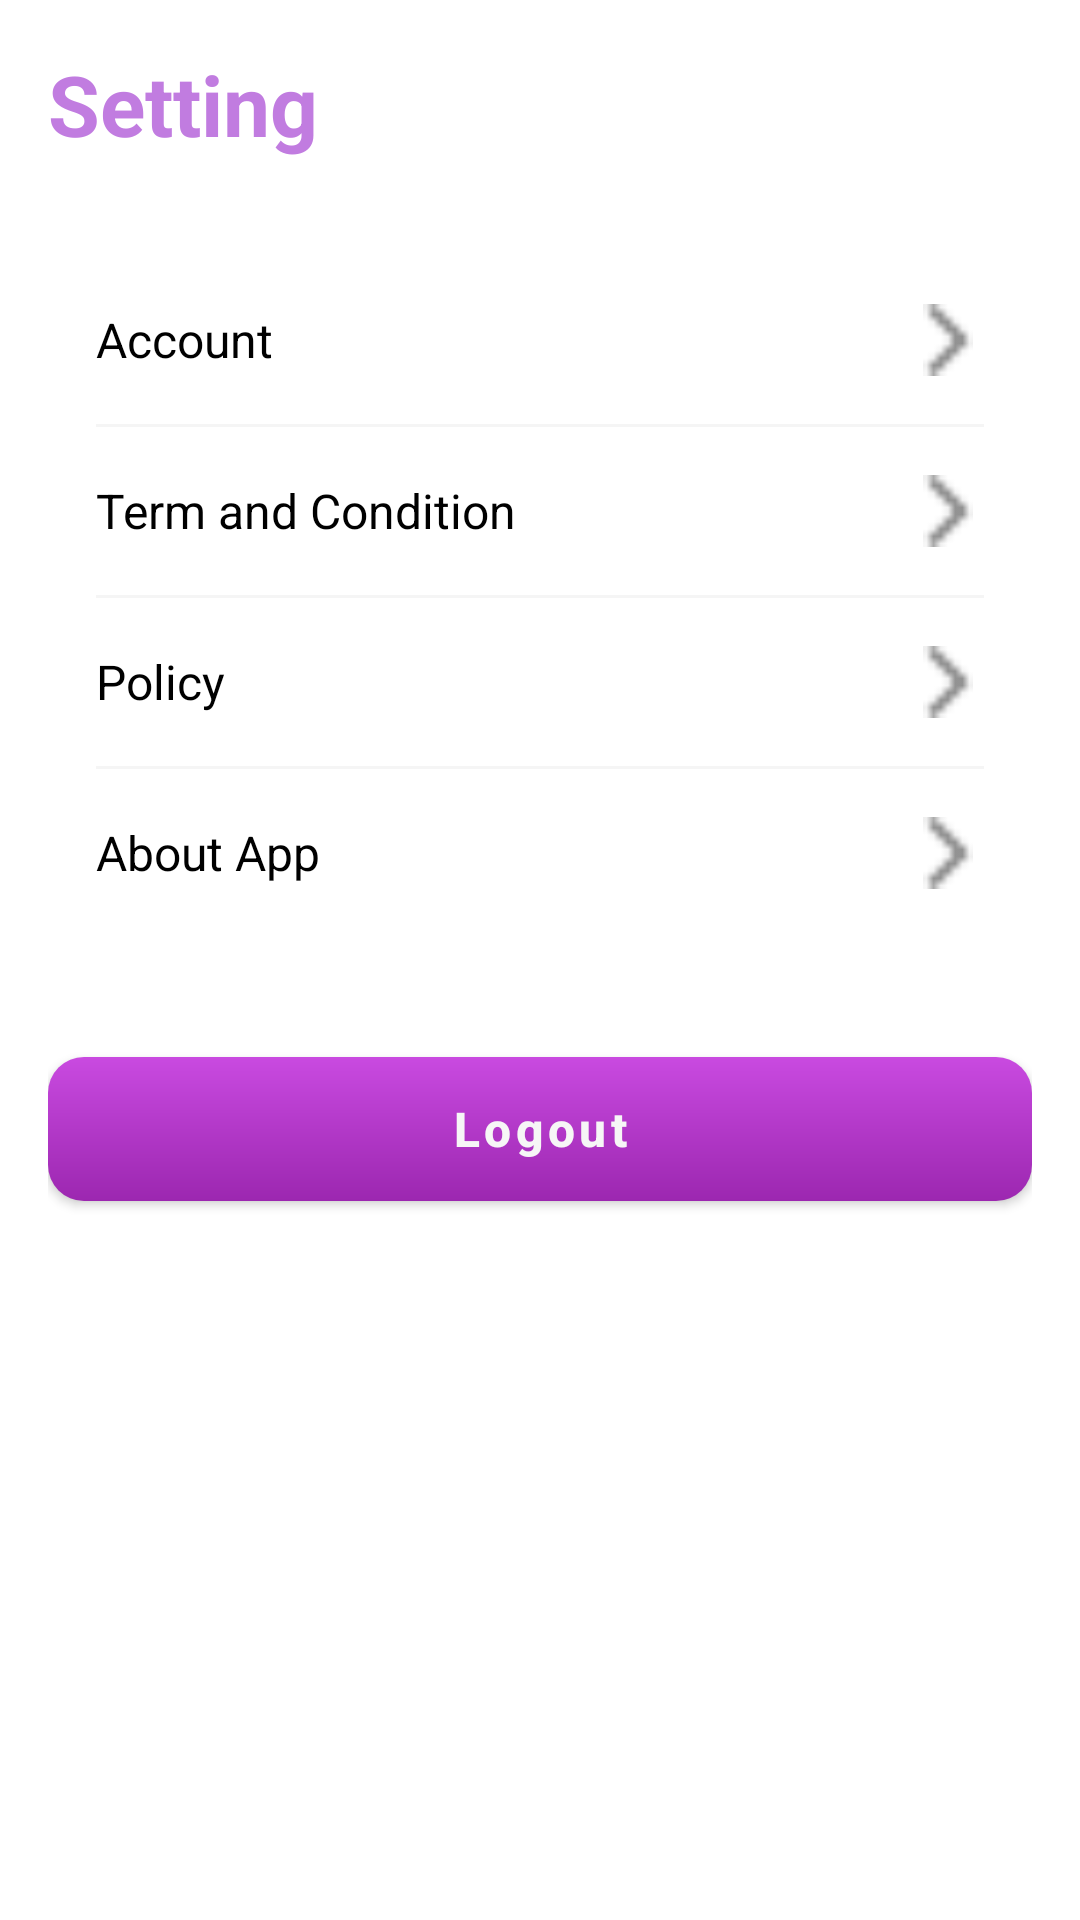

Locate icon controls on the screen. Image size 1080 x 1920, boxes as (x1, y1, x2, y2).
chevron right: (927, 304, 969, 376), (927, 475, 969, 547), (927, 646, 969, 718), (927, 817, 969, 889)
